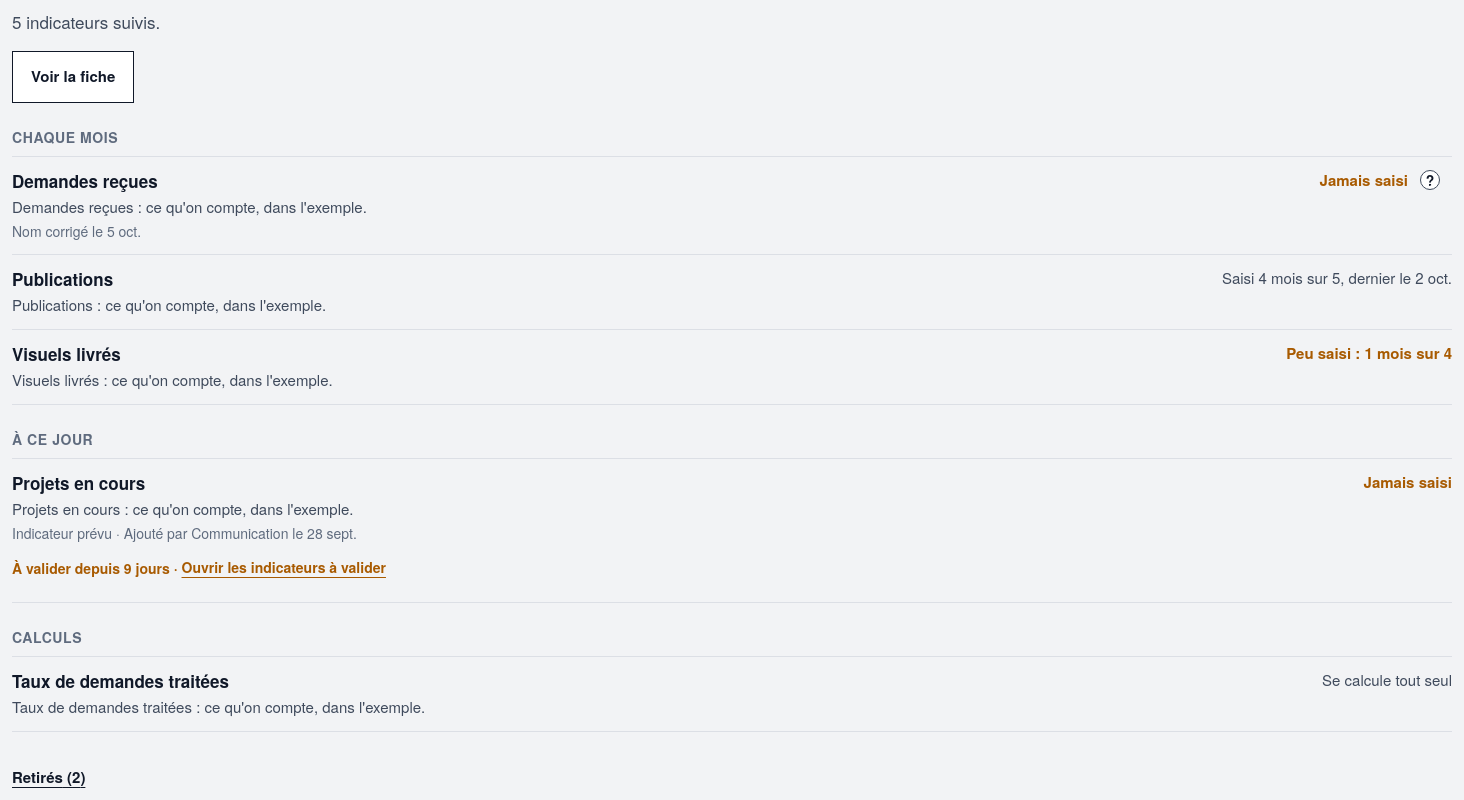
Scenario: VueIndicateursMinistere : un ministère qui suit des indicateurs (7.2) › « Retirés (2) », replié, avec la date et le motif
(page scrolled)
What coordinates should you click on to do the following:
click the heading "Retirés (2)"
I would click on:
 (49, 777)
Its box is x1=12 y1=766 x2=85 y2=788.
(page scrolled)
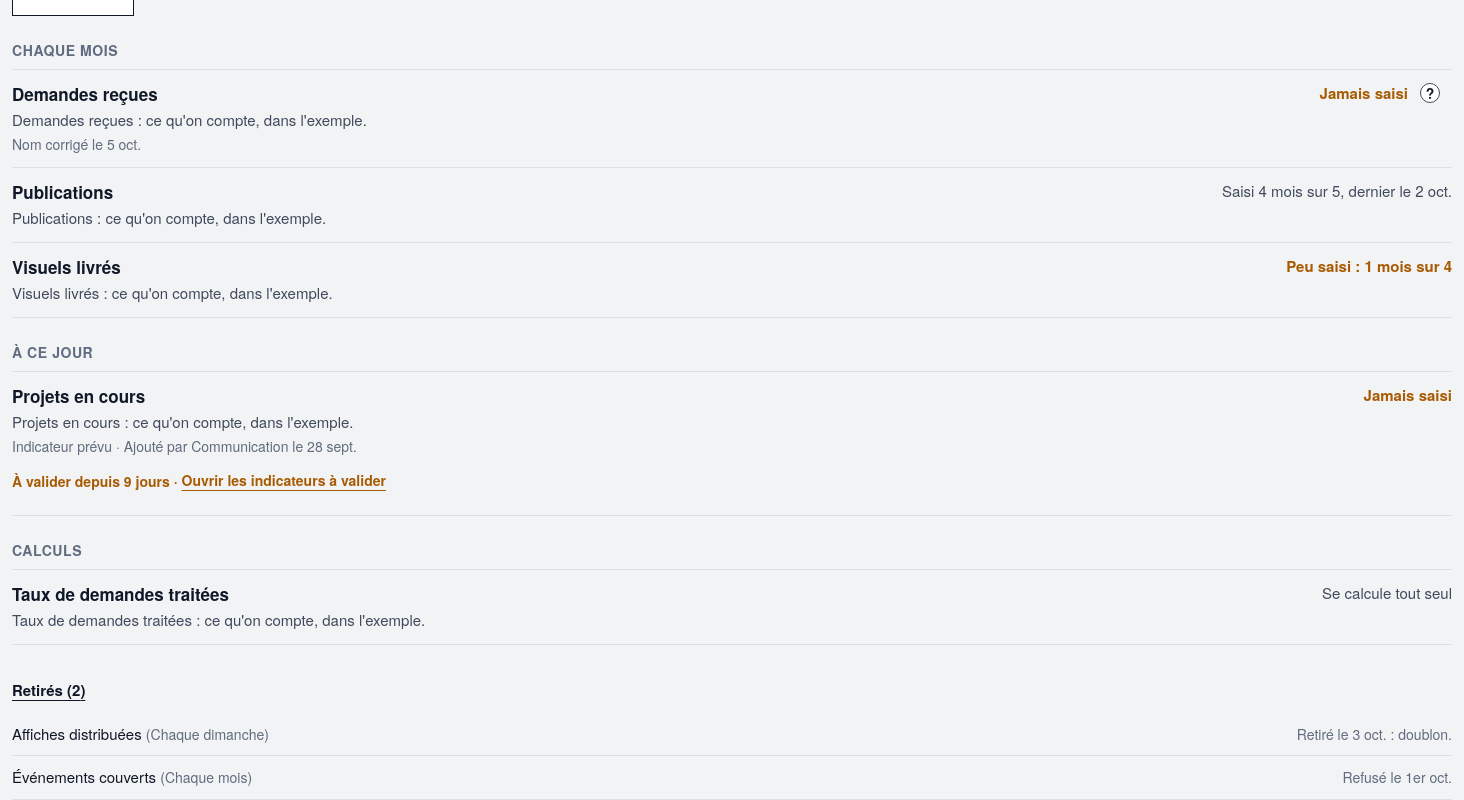
Expected: the text "Retiré le 3 oct. : doublon." is shown, x1=1297 y1=724 x2=1452 y2=744
Expected: the text "Refusé le 1er oct." is shown, x1=1342 y1=767 x2=1452 y2=787
